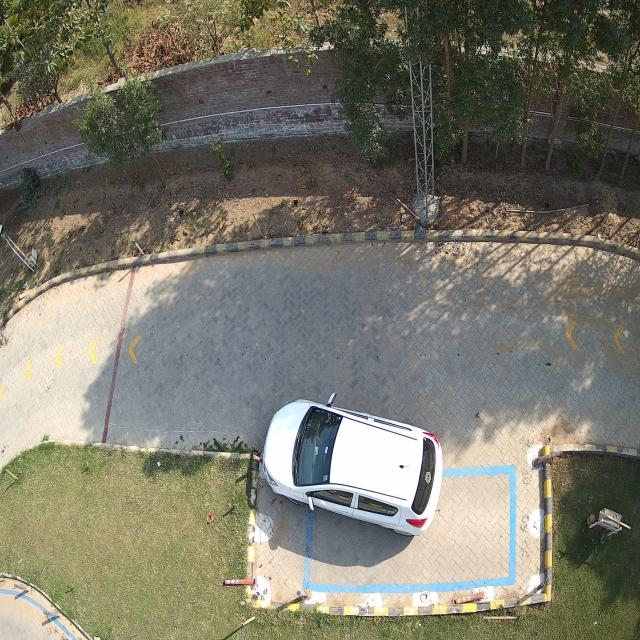car: (261, 400, 443, 538)
